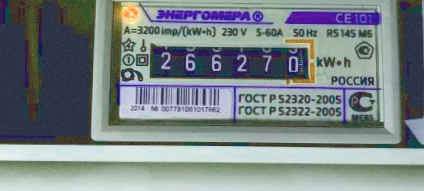0: (285, 53, 299, 73)
2: (158, 49, 171, 71), (235, 52, 248, 72)
6: (183, 51, 195, 72), (209, 52, 222, 71)
7: (261, 53, 271, 72)
screen: (137, 32, 320, 89)
